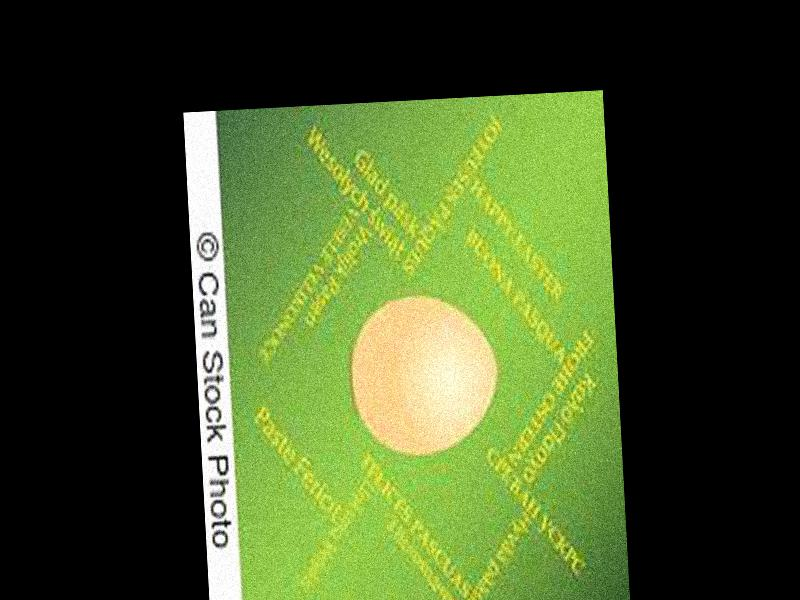Eggs: (348, 292, 500, 455)
